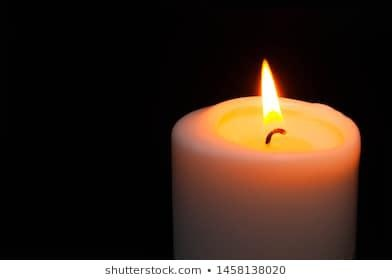fire: (257, 57, 281, 120)
